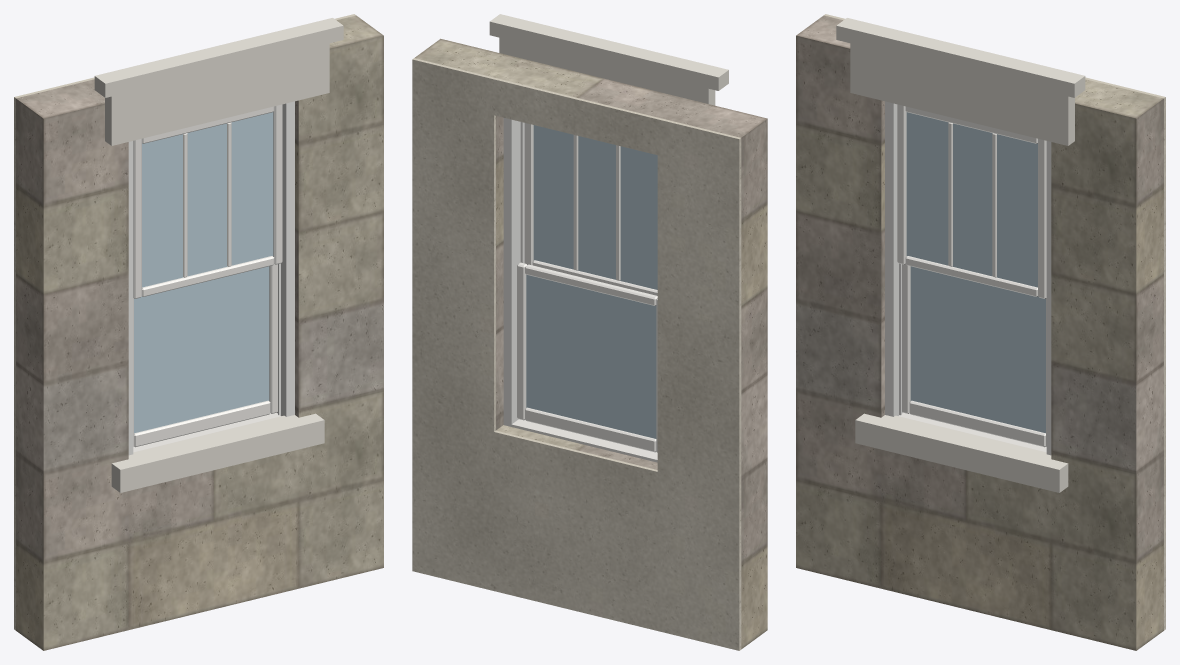
The model's file is wall_b2_window.glb.
The picture shows the model from 3 angles, left to right: view 1: azimuth 30°, elevation 25°; view 2: azimuth 150°, elevation 25°; view 3: azimuth 330°, elevation 25°; orthographic projection. The views are drawn at different scales.
Parts seen in each view (by area): view 1: wall_b2_window_grey, wall_b2_window_glass, wall_b2_window_lime, wall_b2_window_sash, wall_b2_window_frame, wall_b2_window_plaster, wall_b2_window_trim; view 2: wall_b2_window_plaster, wall_b2_window_glass, wall_b2_window_grey, wall_b2_window_lime, wall_b2_window_sash, wall_b2_window_frame, wall_b2_window_trim; view 3: wall_b2_window_grey, wall_b2_window_glass, wall_b2_window_lime, wall_b2_window_sash, wall_b2_window_frame, wall_b2_window_plaster, wall_b2_window_trim.
Boxes of the visible parts, x1,y1,x2,y2 form: wall_b2_window_grey: (16, 15, 383, 650); wall_b2_window_glass: (134, 112, 273, 433); wall_b2_window_lime: (94, 18, 343, 492); wall_b2_window_sash: (133, 104, 282, 447); wall_b2_window_frame: (128, 101, 294, 455); wall_b2_window_plaster: (14, 14, 355, 630); wall_b2_window_trim: (133, 412, 281, 452); wall_b2_window_plaster: (412, 58, 741, 650); wall_b2_window_glass: (526, 125, 657, 438); wall_b2_window_grey: (415, 38, 767, 649); wall_b2_window_lime: (489, 14, 728, 105); wall_b2_window_sash: (517, 123, 657, 452); wall_b2_window_frame: (503, 118, 524, 426); wall_b2_window_trim: (511, 419, 657, 462); wall_b2_window_grey: (796, 15, 1163, 650); wall_b2_window_glass: (906, 112, 1045, 433); wall_b2_window_lime: (836, 18, 1085, 492); wall_b2_window_sash: (897, 104, 1046, 447); wall_b2_window_frame: (885, 101, 1051, 455); wall_b2_window_plaster: (824, 14, 1165, 630); wall_b2_window_trim: (898, 412, 1046, 452).
Size of the model in its own units: 2 by 3.16 by 0.41.
7 materials, 2 textured.
